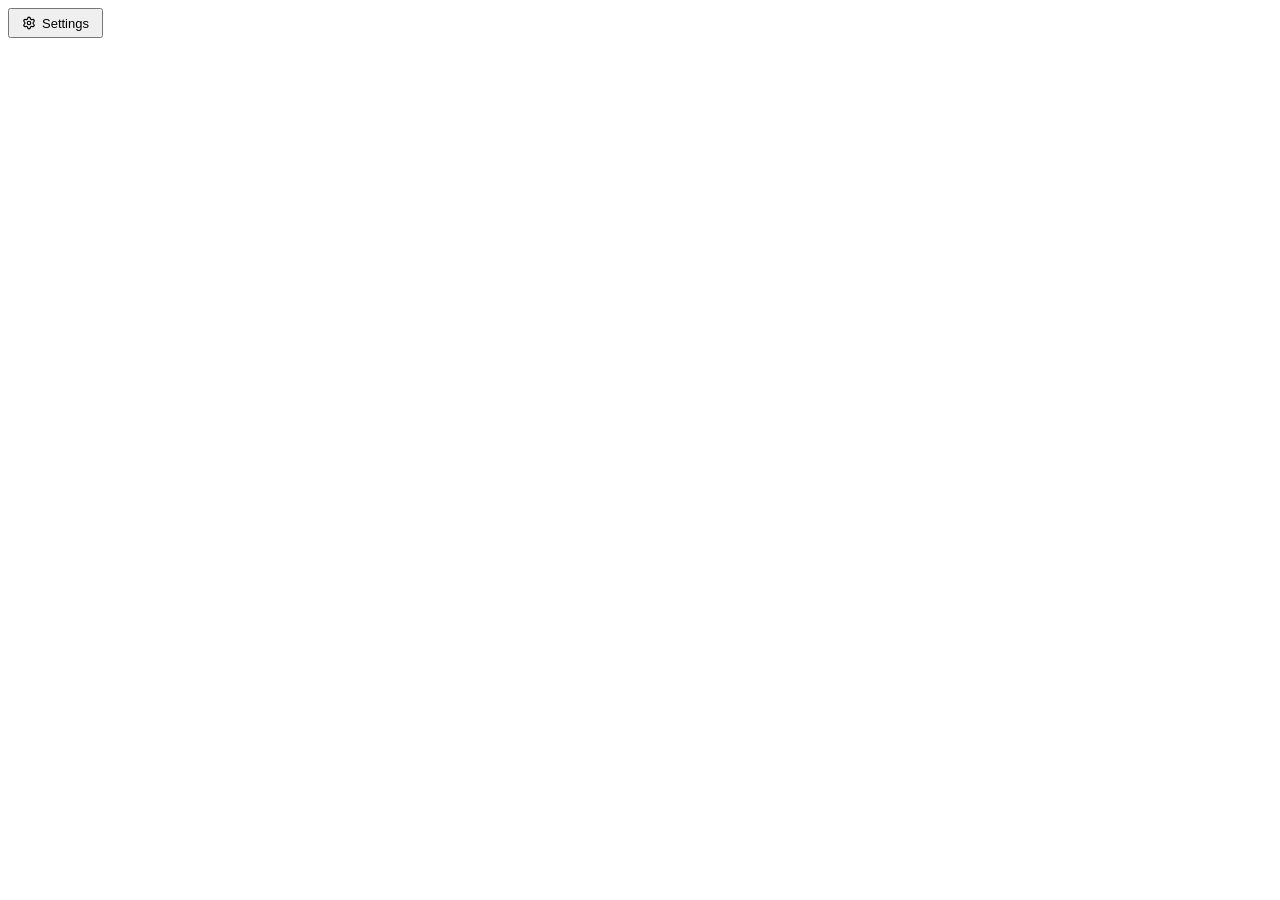
Possibly Ended re-check on save (02) › saving a new number of months waits for the check, then reloads the screen
Later steps or results of the test are not shown.
Click the button "Settings" at (56, 23), box 8,8 -> 103,38
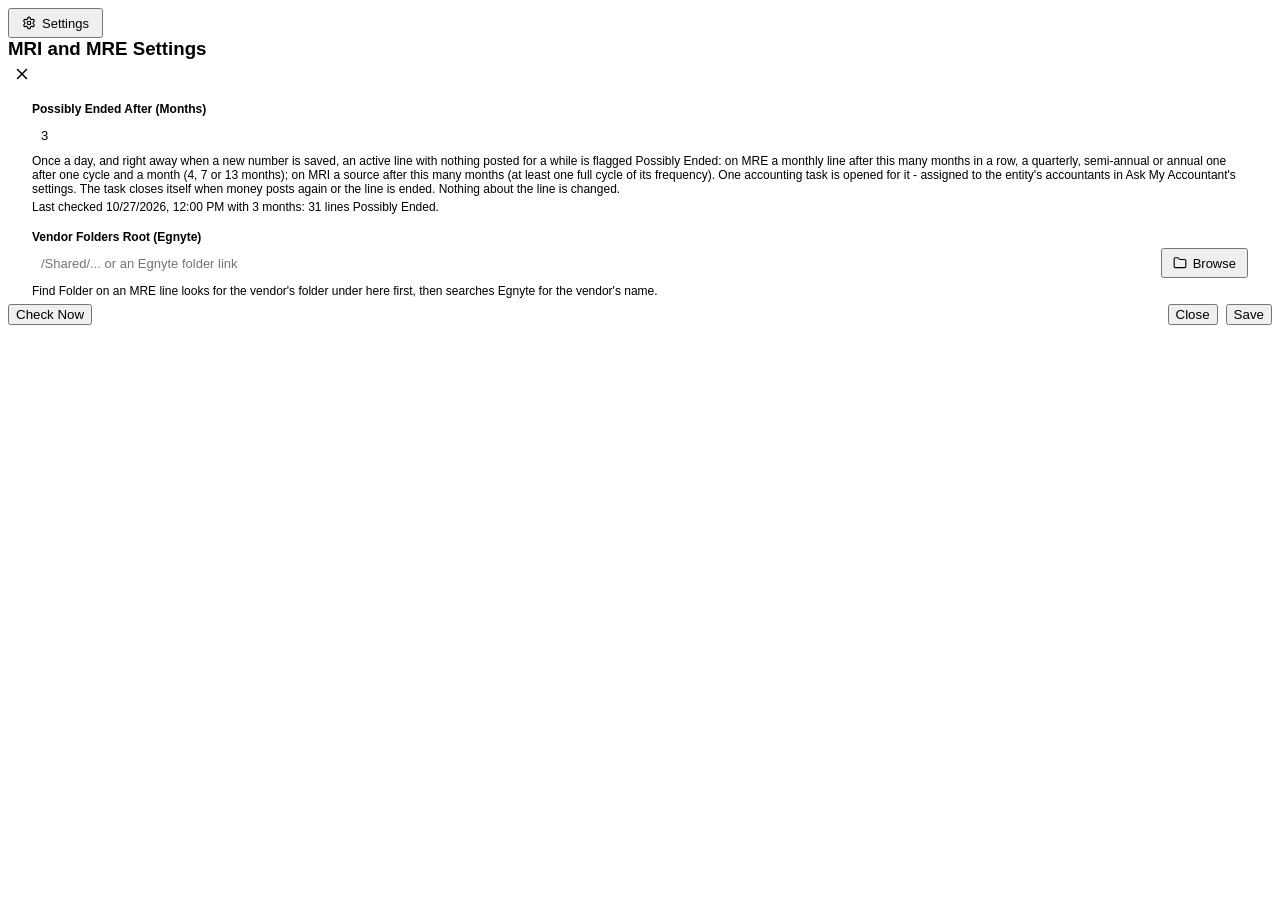
Replace the text in the number field labelled "Possibly Ended After (Months)" with "5" at (92, 135), box 32,120 -> 152,150
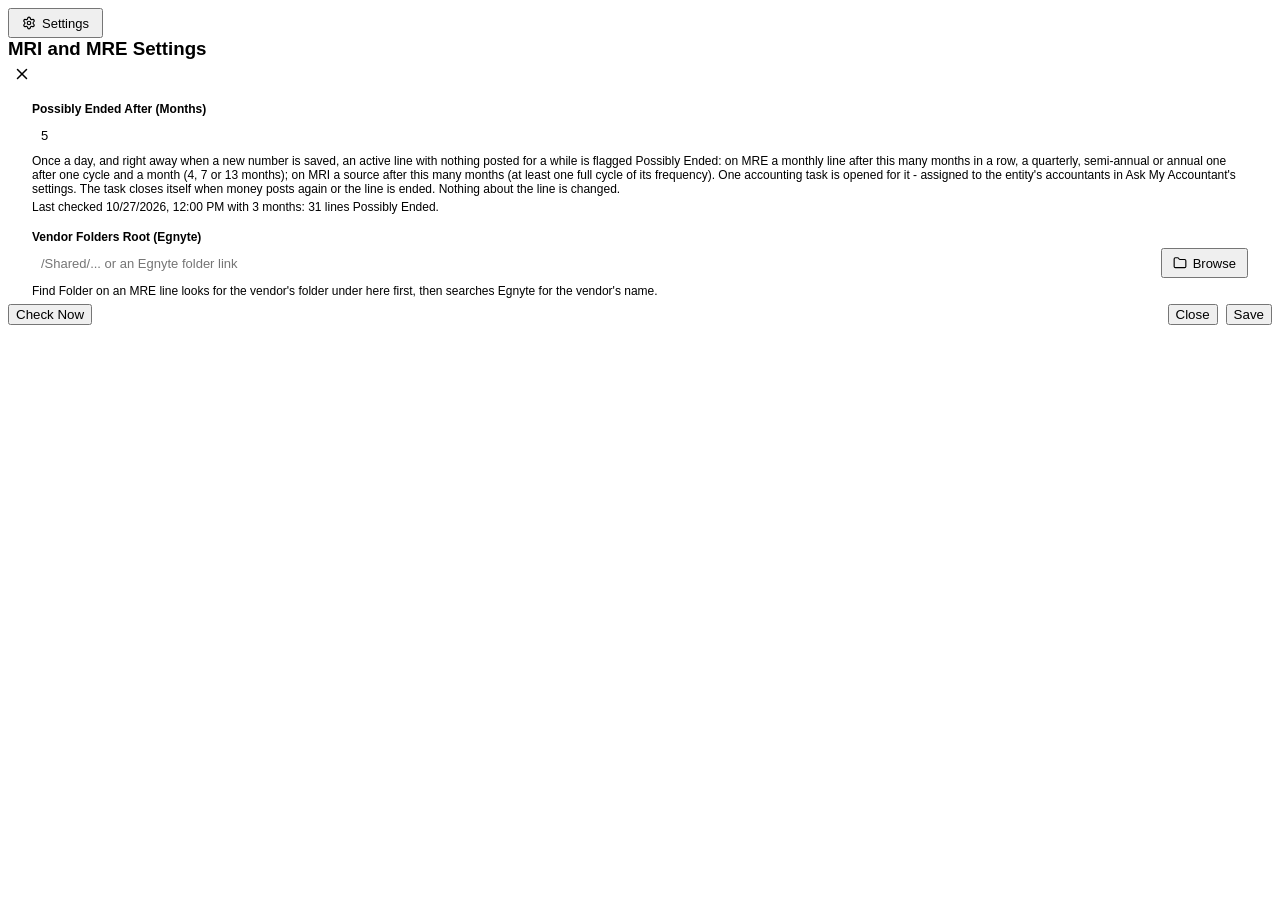
Click the button "Save" at (1249, 314), box 1226,304 -> 1272,325
Wait 6200 ms
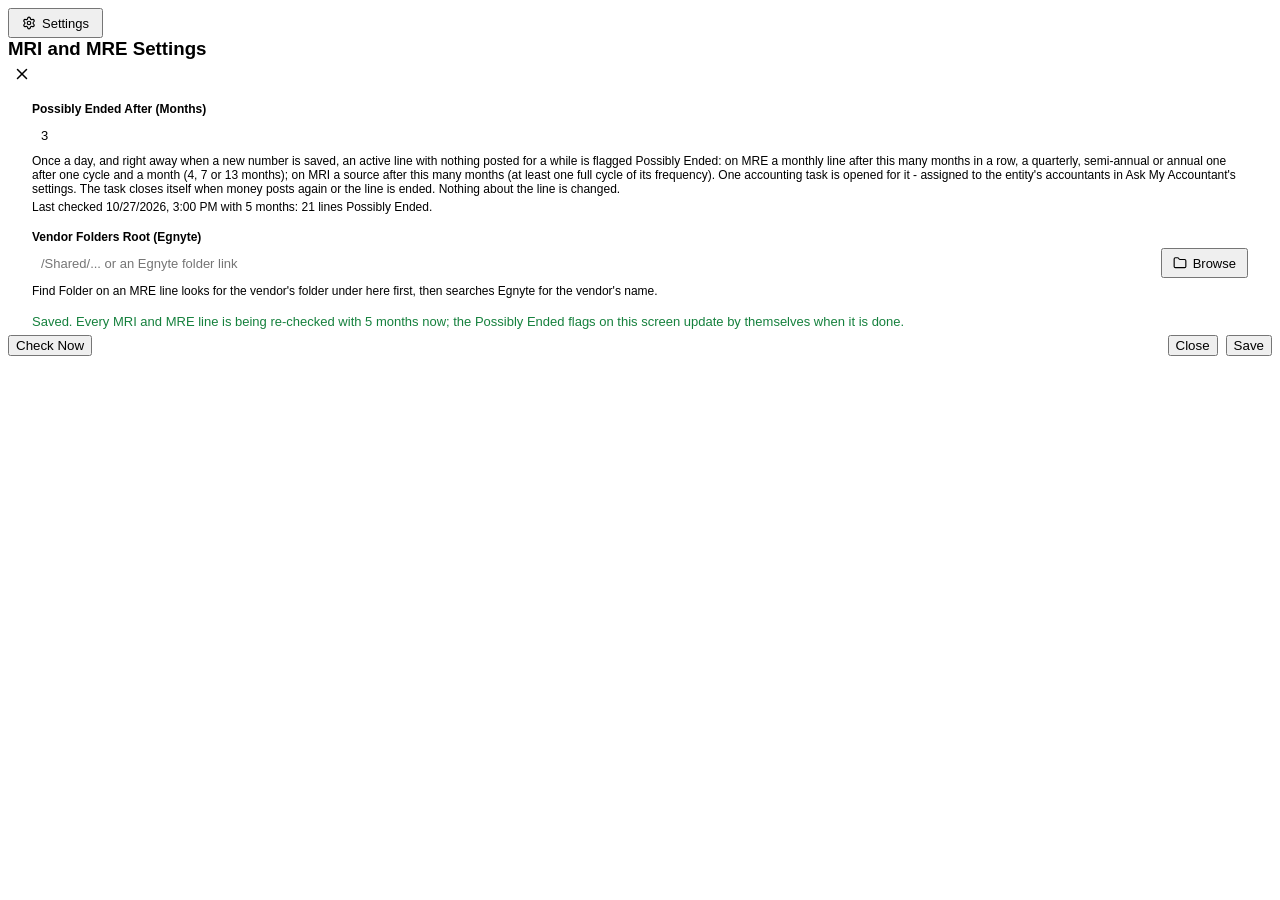
Expected: the text "being re-checked with 5 months now" is shown, 32,314 -> 904,329
Expected: the text with test id "last-check" shows "with 5 months: 21 lines Possibly Ended.", 32,200 -> 432,214
